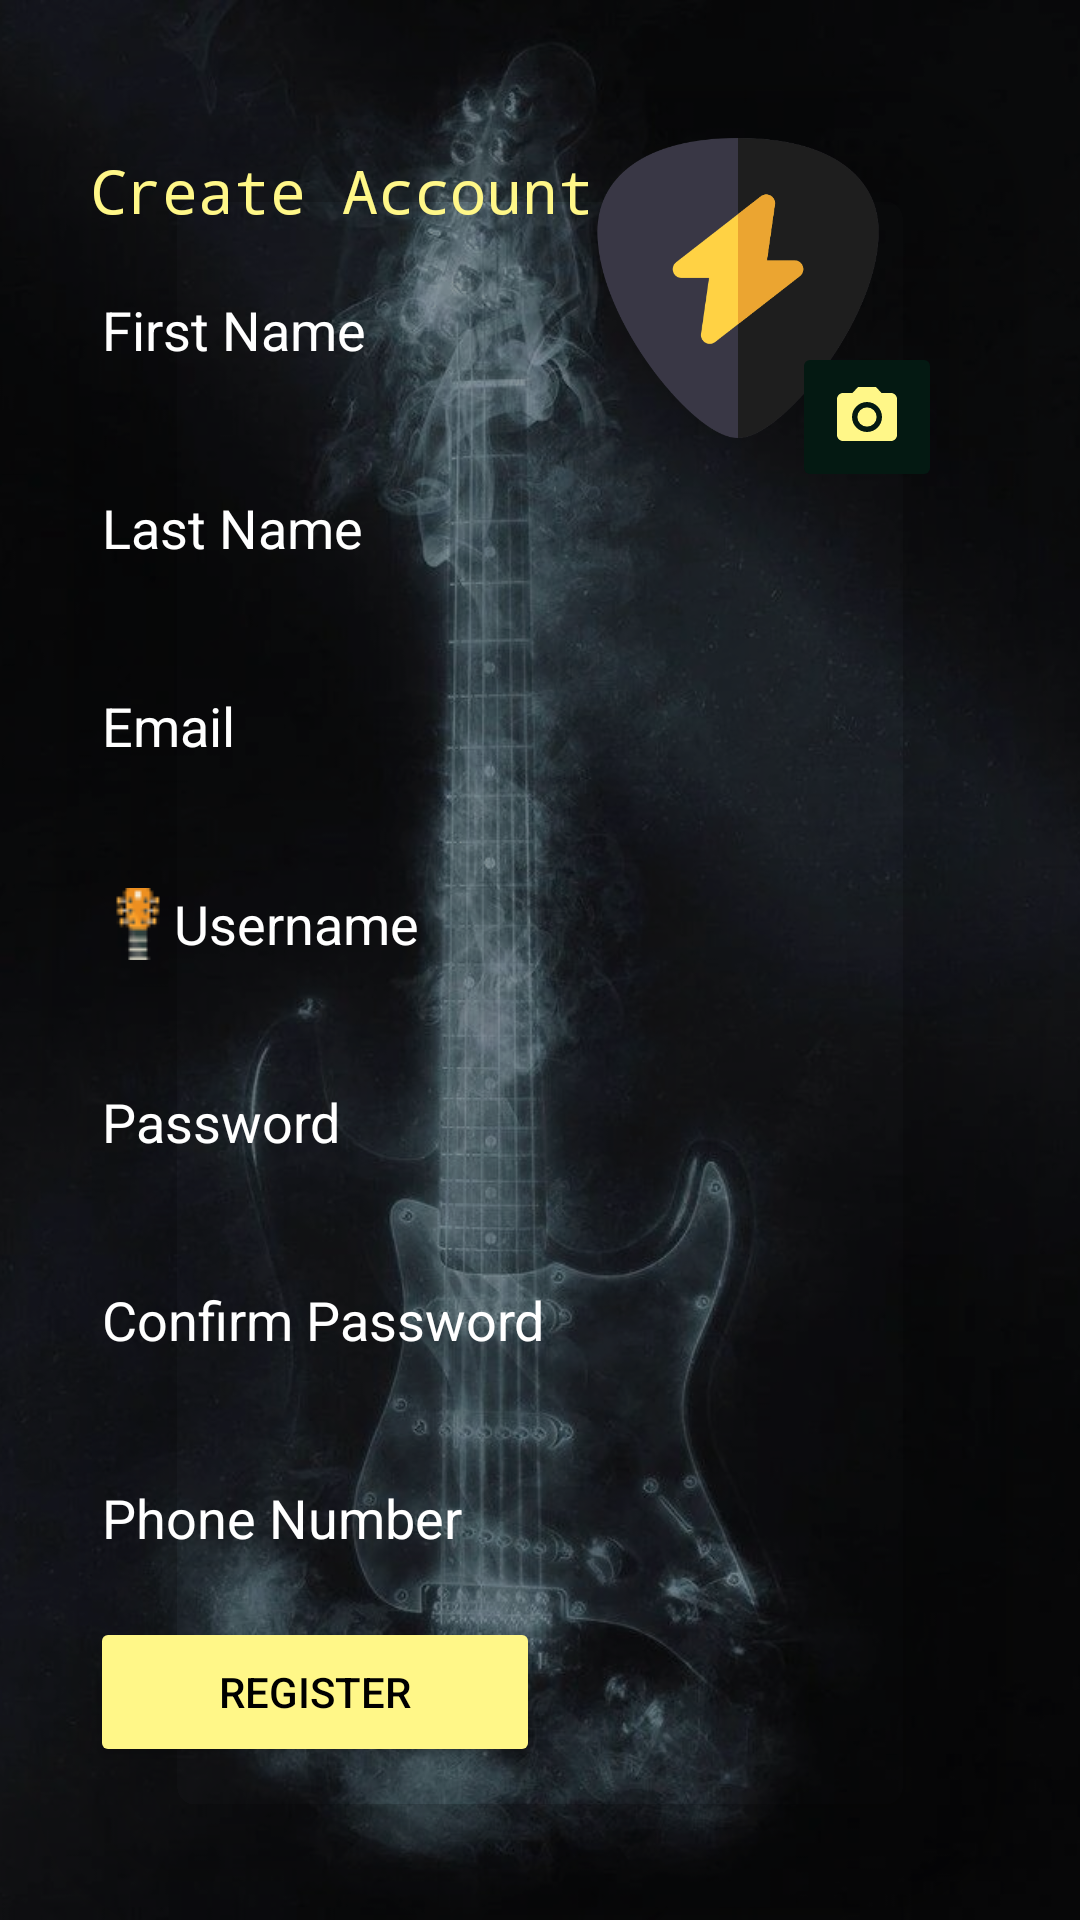

Icons on this 1080*1920 Android screen, each with the point to tap as (x=x, y=y):
pick pfp: (x=738, y=288)
Select Image: (x=867, y=414)
